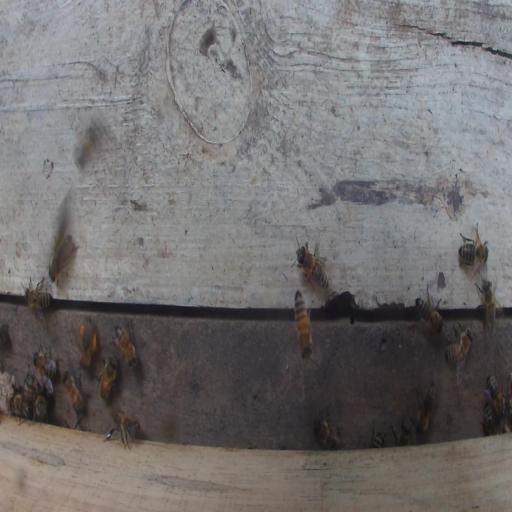bee: (48, 233, 78, 285), (297, 243, 329, 290), (294, 288, 313, 363), (24, 275, 53, 323), (444, 325, 474, 369), (414, 295, 445, 337), (413, 380, 438, 432), (112, 323, 139, 370), (107, 411, 139, 450), (314, 407, 343, 449), (477, 276, 498, 334), (62, 369, 85, 416), (95, 356, 118, 401), (76, 127, 99, 169), (79, 317, 97, 370), (33, 348, 58, 380), (9, 392, 32, 424), (457, 243, 489, 265), (485, 374, 502, 414), (390, 421, 412, 446), (483, 403, 498, 435), (33, 393, 47, 422), (23, 371, 38, 398), (370, 431, 386, 447)
